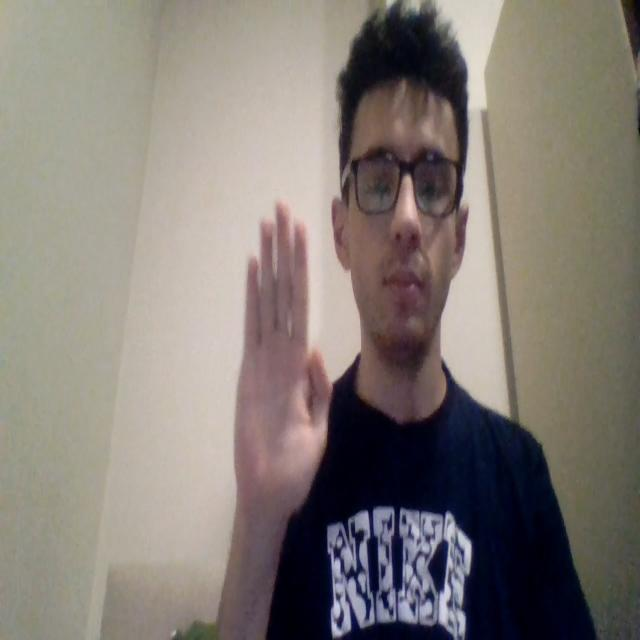hello: (232, 197, 333, 521)
